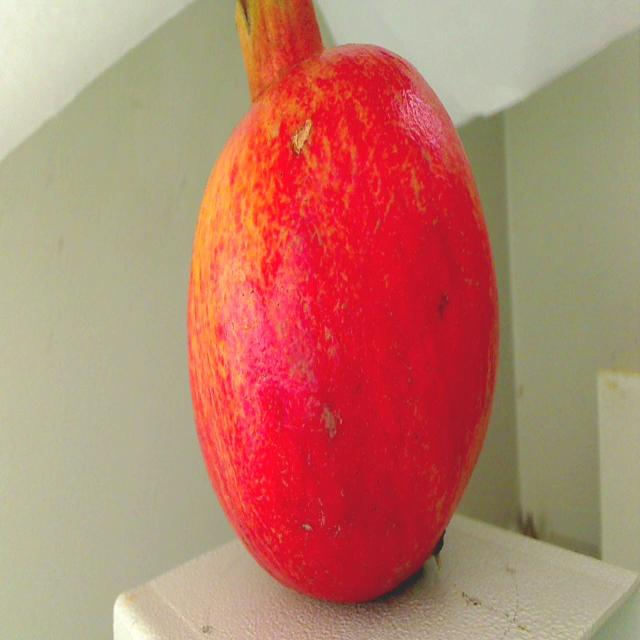pomegranate: (180, 0, 523, 640)
